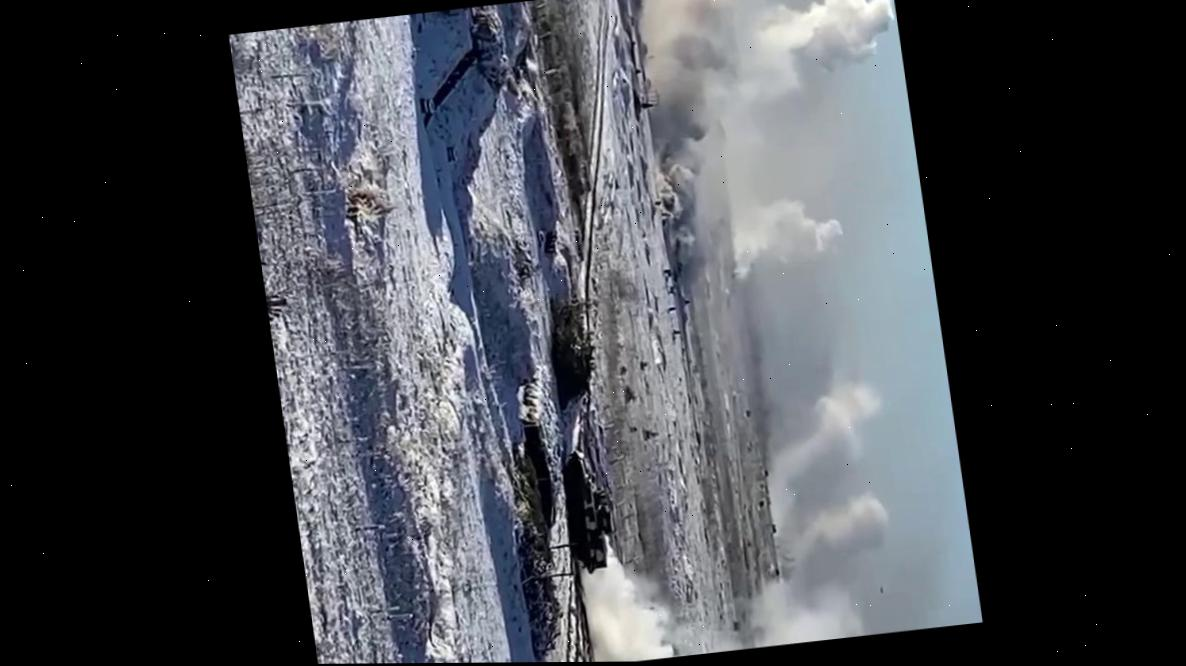tank: (556, 426, 623, 573)
